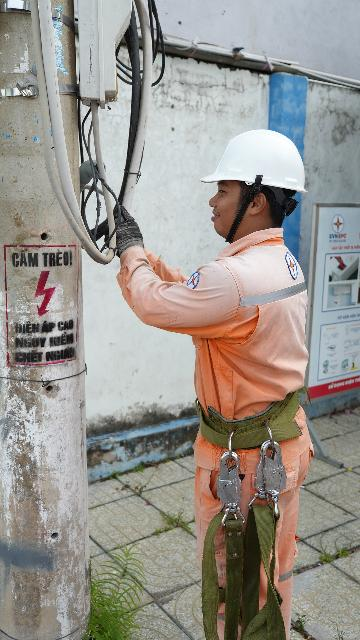gloves: (99, 198, 156, 269)
harness: (184, 372, 322, 454)
helmet: (202, 115, 322, 198)
